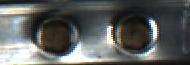joints: (31, 5, 83, 61), (102, 10, 160, 57)
